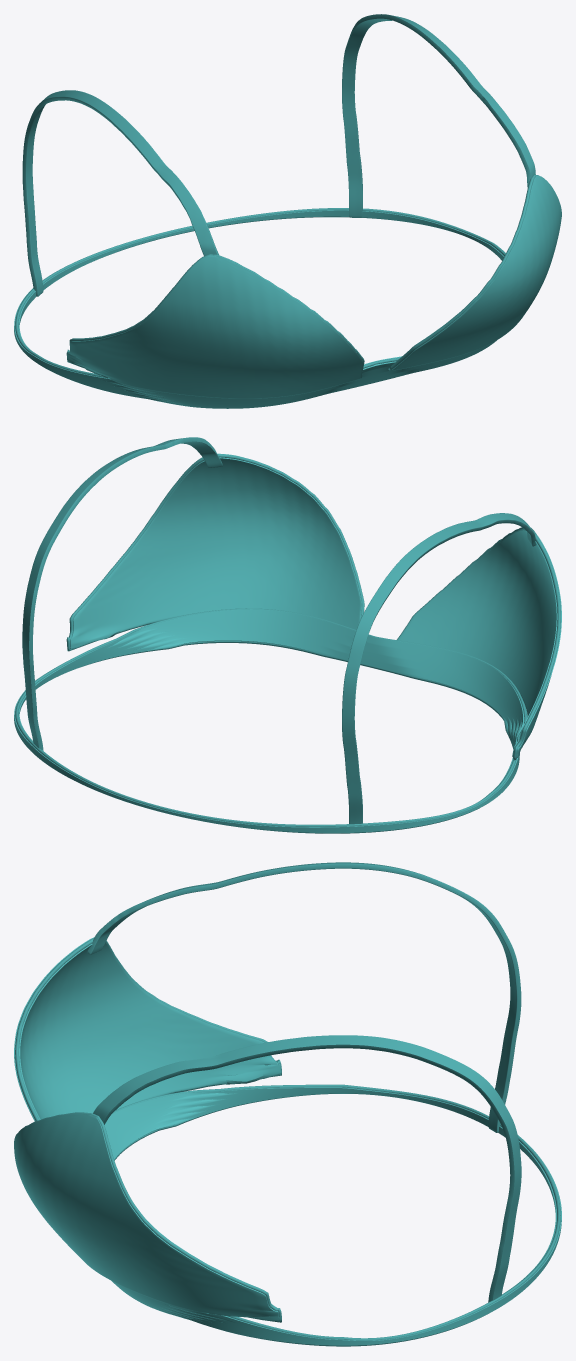
Rendered from Feminine-triangle-top.glb.
3 renders of one model, top to bottom at view 1: azimuth 30°, elevation 25°; view 2: azimuth 150°, elevation 25°; view 3: azimuth 270°, elevation 25°, orthographic. The views are drawn at different scales.
Visible parts, largest first — view 1: Clothing / triangle cup -1, Clothing / triangle cup 1, Clothing / Triangle underband, Clothing / Triangle strap 1, Clothing / Triangle strap -1, Triangle underband / bound edge.001 export, Triangle / cup edge -1 export, Triangle / cup edge 1 export; view 2: Clothing / triangle cup 1, Clothing / Triangle underband, Clothing / triangle cup -1, Clothing / Triangle strap -1, Clothing / Triangle strap 1, Triangle underband / bound edge.001 export, Triangle / cup edge 1 export, Triangle underband / bound edge export, Triangle / cup edge -1 export; view 3: Clothing / triangle cup -1, Clothing / triangle cup 1, Clothing / Triangle underband, Clothing / Triangle strap 1, Clothing / Triangle strap -1, Triangle underband / bound edge.001 export, Triangle / cup edge -1 export, Triangle / cup edge 1 export, Triangle underband / bound edge export.
Boxes of the visible parts, x1,y1,x2,y2 form: Clothing / triangle cup -1: [66, 255, 364, 398]; Clothing / triangle cup 1: [392, 175, 561, 370]; Clothing / Triangle underband: [14, 210, 505, 408]; Clothing / Triangle strap 1: [342, 14, 535, 217]; Clothing / Triangle strap -1: [22, 90, 218, 296]; Triangle underband / bound edge.001 export: [15, 208, 505, 377]; Triangle / cup edge -1 export: [67, 254, 364, 378]; Triangle / cup edge 1 export: [388, 175, 539, 370]; Clothing / triangle cup 1: [66, 453, 361, 649]; Clothing / Triangle underband: [14, 609, 527, 833]; Clothing / triangle cup -1: [398, 528, 561, 757]; Clothing / Triangle strap -1: [342, 513, 536, 824]; Clothing / Triangle strap 1: [22, 437, 222, 750]; Triangle underband / bound edge.001 export: [15, 608, 527, 826]; Triangle / cup edge 1 export: [67, 454, 364, 651]; Triangle underband / bound edge export: [82, 641, 505, 833]; Triangle / cup edge -1 export: [397, 527, 560, 760]; Clothing / triangle cup -1: [14, 937, 280, 1120]; Clothing / triangle cup 1: [14, 1113, 279, 1321]; Clothing / Triangle underband: [104, 1087, 561, 1345]; Clothing / Triangle strap 1: [93, 1035, 521, 1302]; Clothing / Triangle strap -1: [87, 862, 521, 1132]; Triangle underband / bound edge.001 export: [112, 1084, 560, 1340]; Triangle / cup edge -1 export: [15, 938, 281, 1120]; Triangle / cup edge 1 export: [25, 1112, 281, 1322]; Triangle underband / bound edge export: [114, 1093, 487, 1346].
Size of the model in its own units: 0.5845 by 0.2896 by 0.5303.
